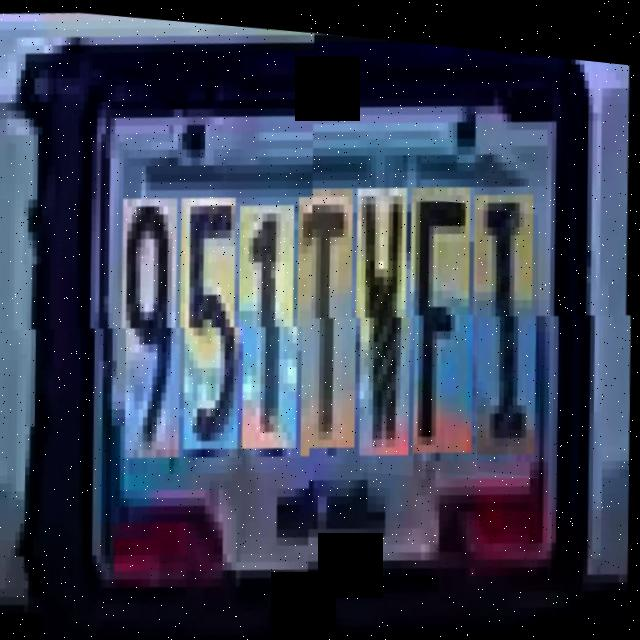1: (240, 200, 303, 452)
5: (181, 193, 245, 454)
9: (122, 193, 187, 462)
F: (410, 189, 480, 467)
I: (473, 197, 543, 465)
T: (298, 191, 362, 460)
W: (356, 190, 417, 468)
